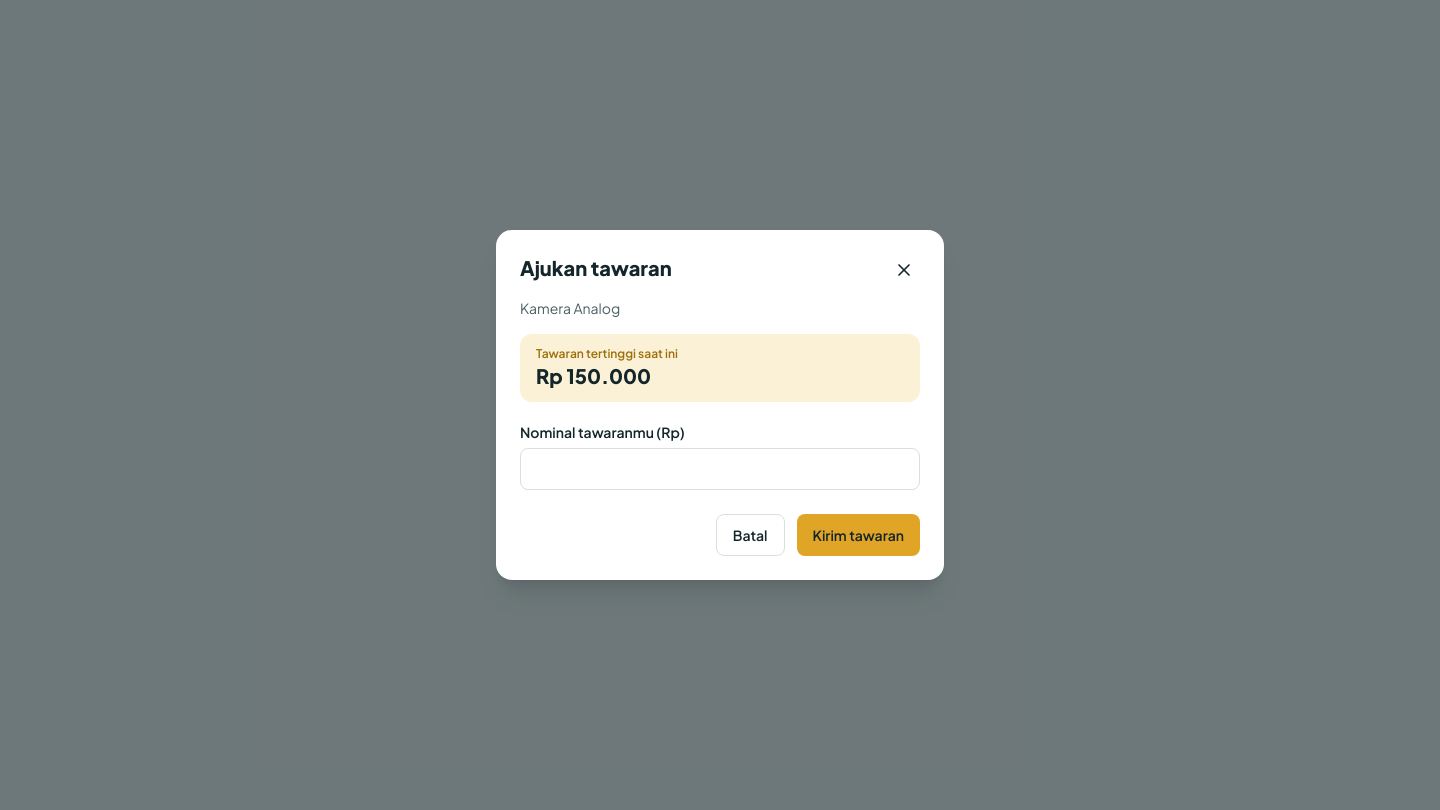
Scenario: BidModal › menolak nominal 150000 yang tidak melebihi tawaran tertinggi
In the number field labelled "Nominal tawaranmu (Rp)": (720, 469) x1=520 y1=448 x2=920 y2=490, type "150000"
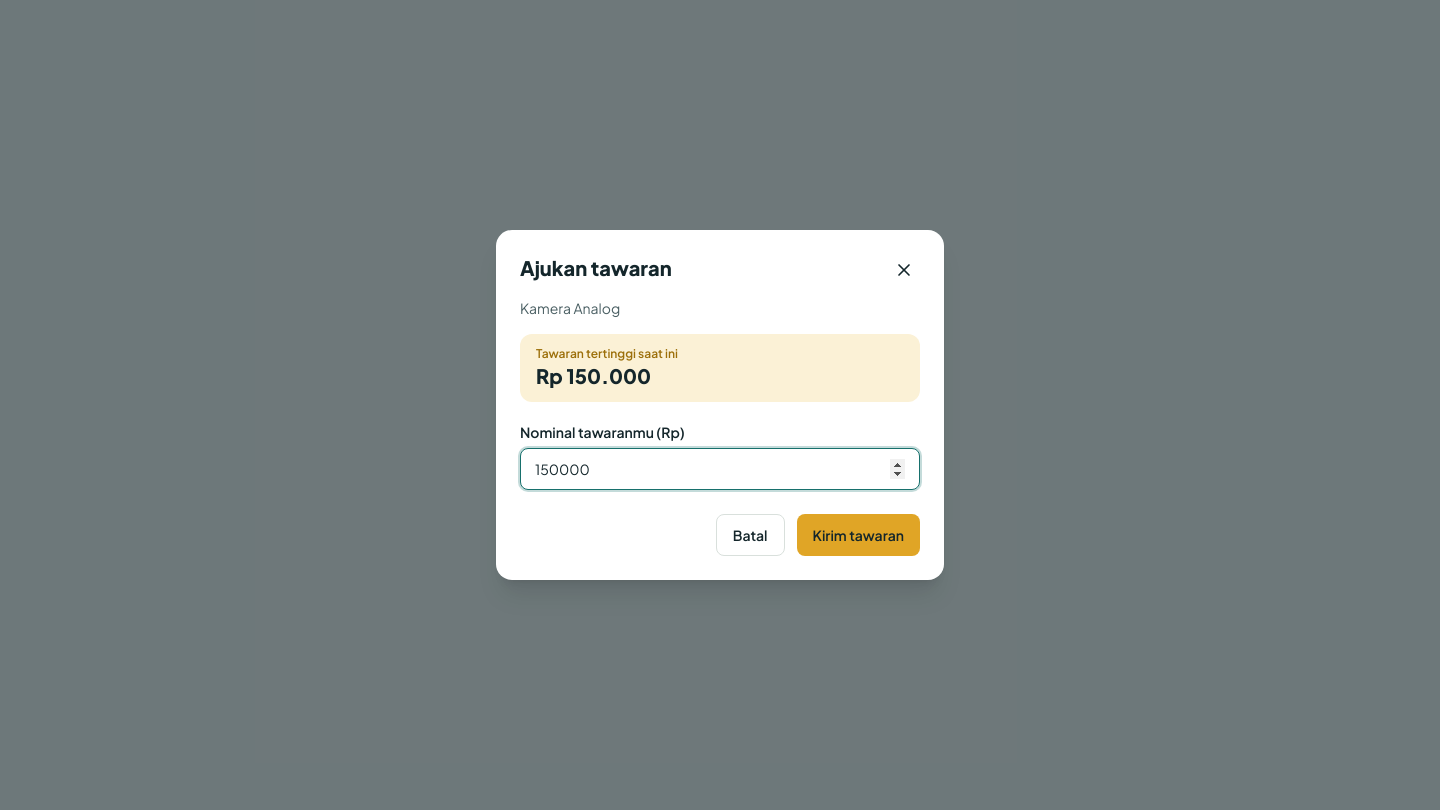
Click the button "Kirim tawaran": click(858, 535) x1=796 y1=514 x2=920 y2=556
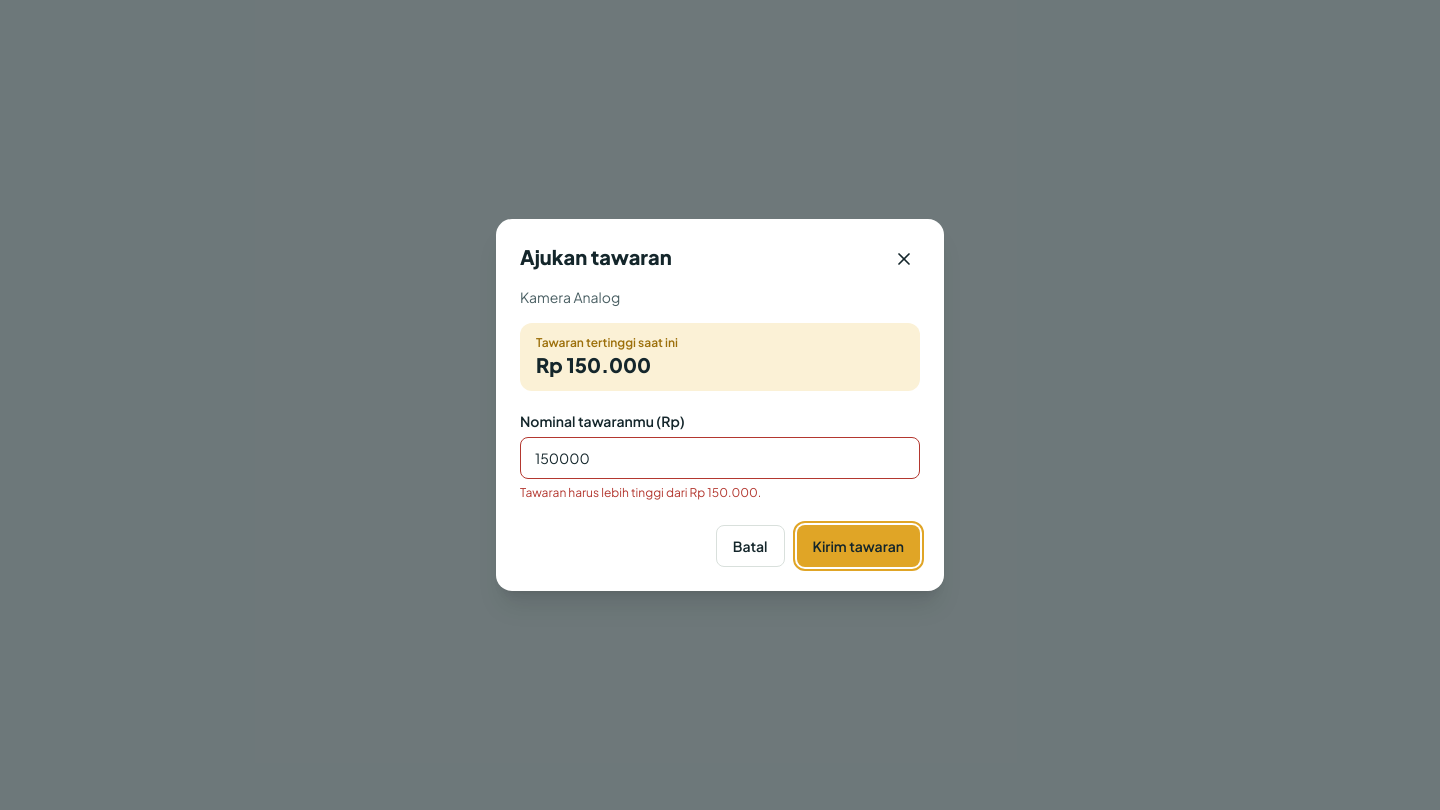
Result: the text "Tawaran harus lebih tinggi dari Rp 150.000." is shown at x1=520 y1=485 x2=761 y2=500
